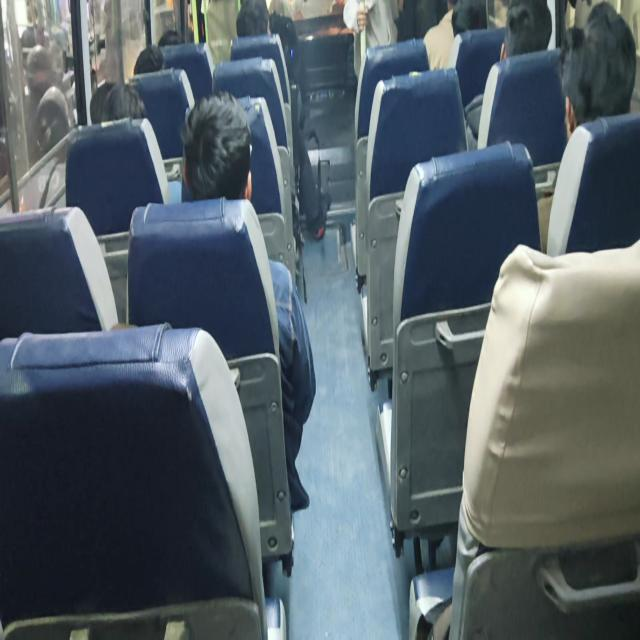person: (180, 90, 316, 512), (536, 1, 636, 251), (235, 0, 331, 241), (464, 0, 553, 147), (562, 1, 637, 138), (343, 0, 404, 80), (499, 0, 552, 61), (423, 0, 457, 71), (101, 81, 146, 121)
